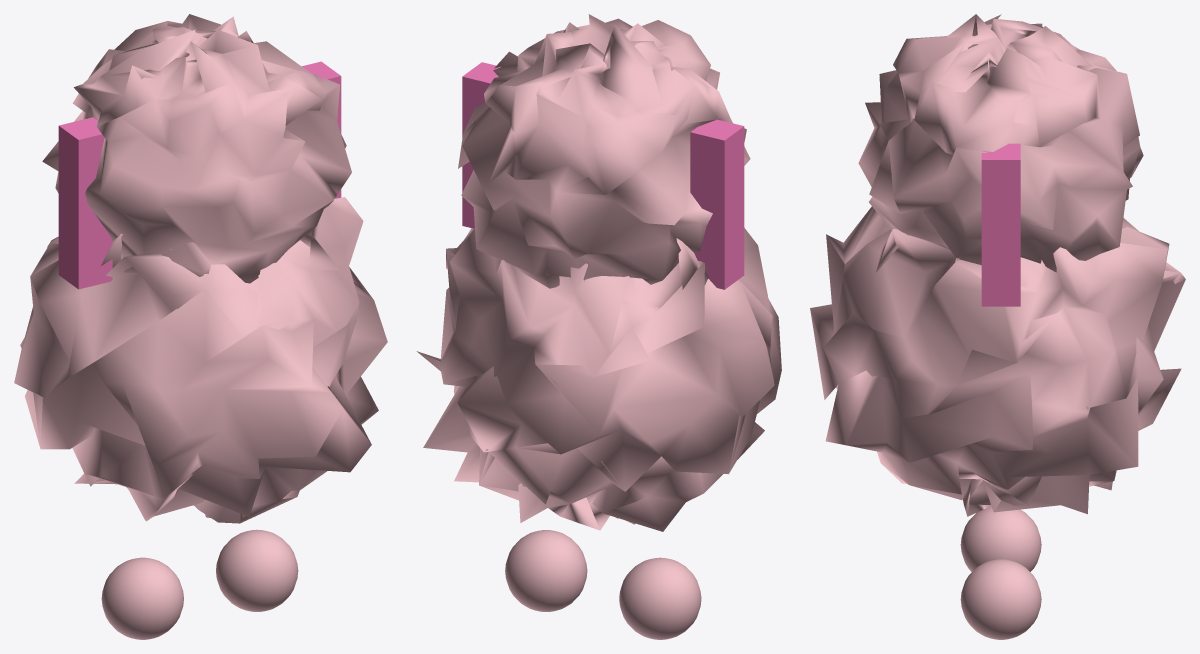
Rendered from clay_groove_bunny.glb.
The picture shows the model from 3 angles, left to right: view 1: azimuth 30°, elevation 25°; view 2: azimuth 150°, elevation 25°; view 3: azimuth 270°, elevation 25°; orthographic projection.
Parts seen in each view (by area): view 1: arm_up.001; view 2: arm_up.001; view 3: arm_up.001.
Part boxes in pixels (box(x1,y1,x2,y2)): arm_up.001: box(14, 14, 387, 639); arm_up.001: box(416, 14, 781, 639); arm_up.001: box(810, 14, 1185, 639).
Size of the model in its own units: 1.1 by 2 by 1.16.
